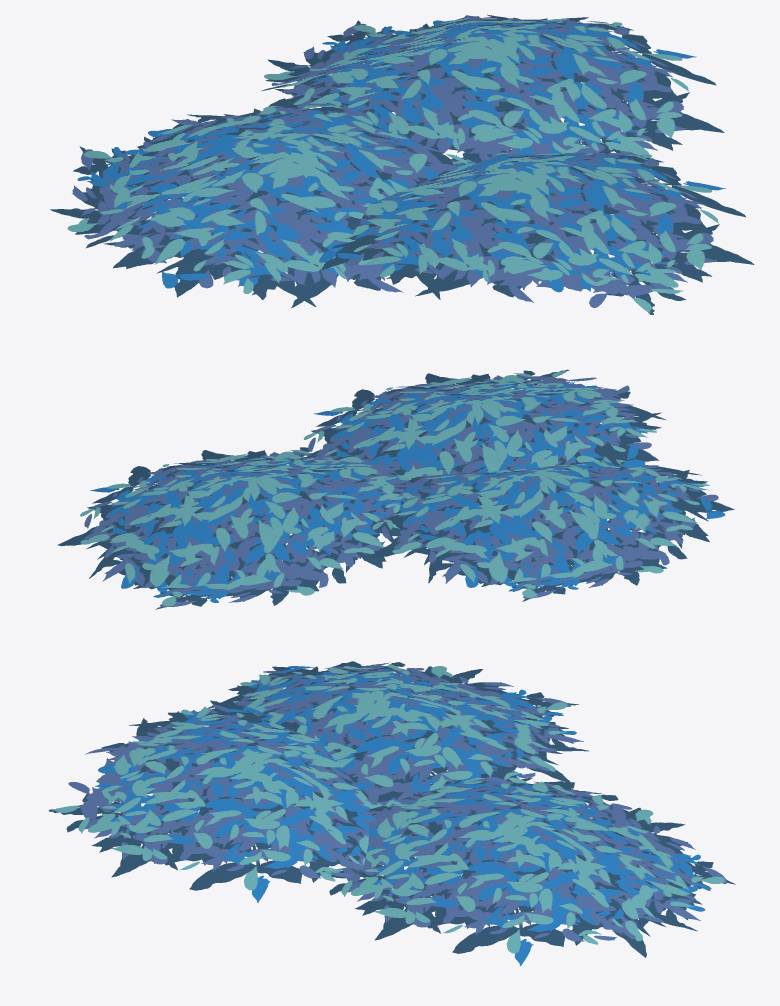
The model's file is blue_bush.fbx.
3 views of the same model, one above another, from view 1: azimuth 30°, elevation 25°; view 2: azimuth 150°, elevation 25°; view 3: azimuth 270°, elevation 25° (orthographic). The views are drawn at different scales.
Parts seen in each view (by area): view 1: pPlane123; view 2: pPlane123; view 3: pPlane123.
Boxes of the visible parts, x1=… form: pPlane123: x1=50, y1=14, x2=754, y2=314; pPlane123: x1=58, y1=369, x2=734, y2=609; pPlane123: x1=49, y1=661, x2=735, y2=965.
Bounding box in the file's own units: 1.79 × 0.2166 × 1.88.
